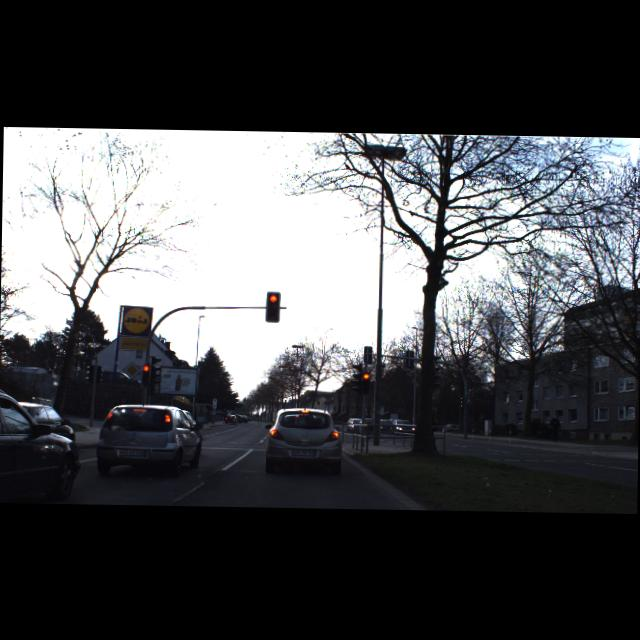other: (122, 360, 140, 379)
